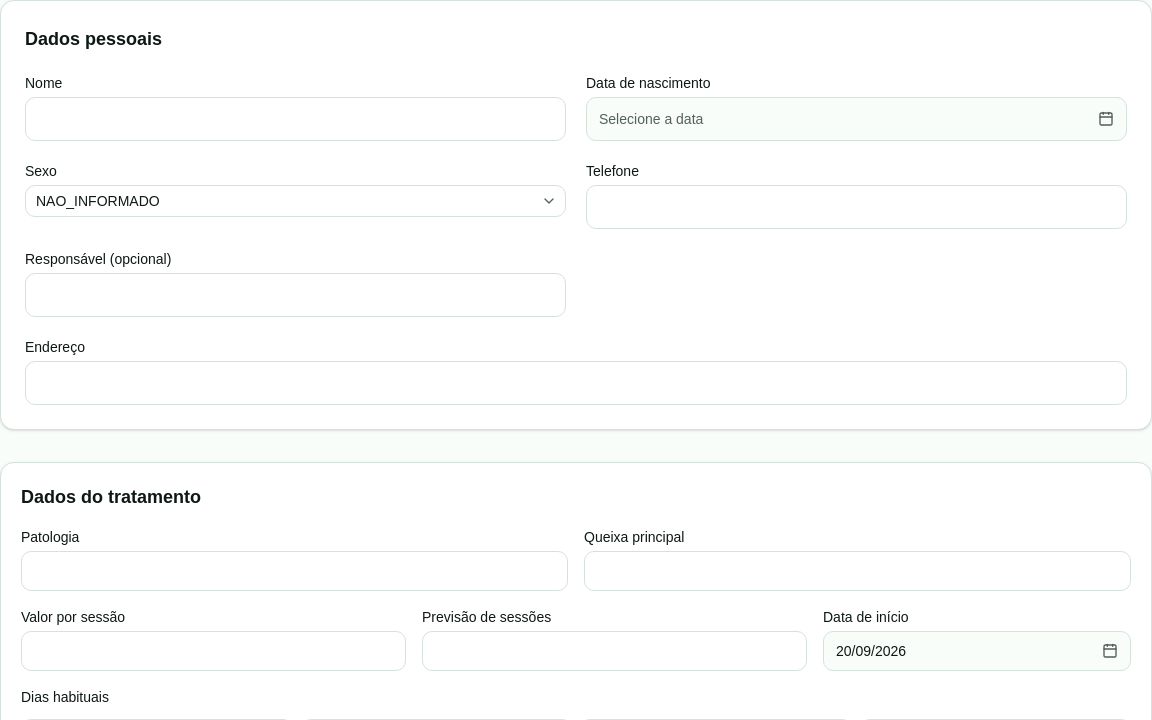
Test case: PatientForm › aplica máscara de telefone com react-number-format
Step 1. Type "85999990000" into the field labelled "Telefone" → (856, 207), box 586,185 -> 1127,229
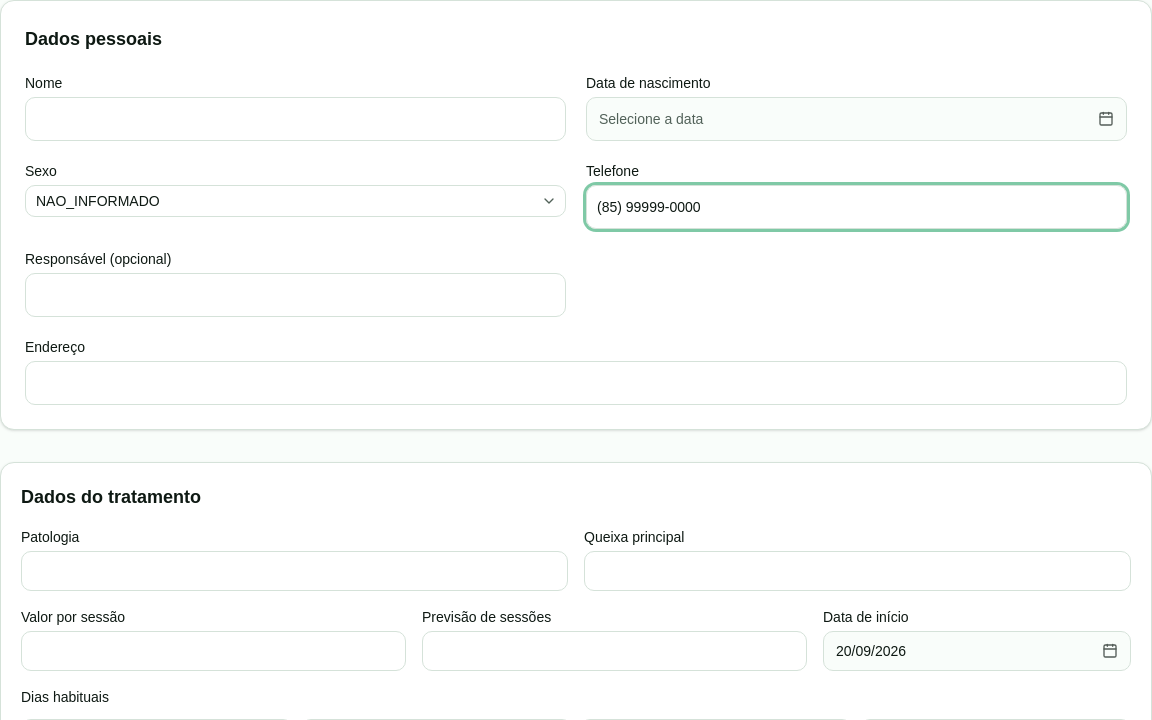
Expected: the field labelled "Telefone" holds "(85) 99999-0000", 586,185 -> 1127,229
